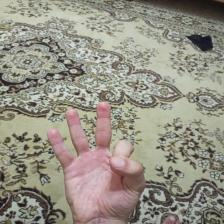five: (42, 99, 151, 220)
